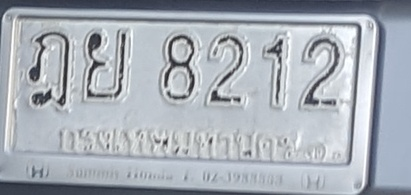txt11: (26, 29, 73, 109)
txt29: (82, 30, 127, 101)
